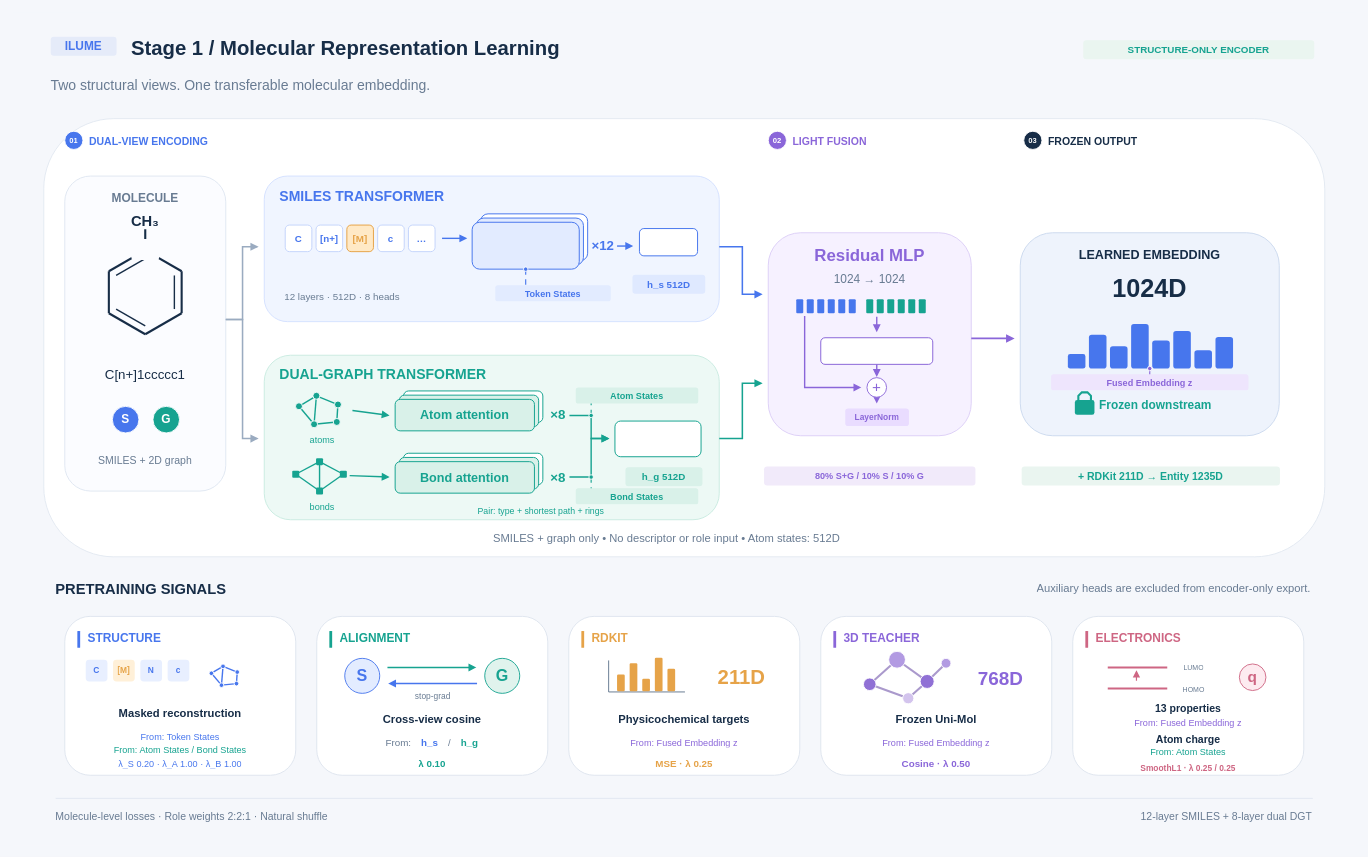
The diagram is 1368 pixels wide and 857 high, and some of its shapes have lost their labels. Each missing label, with the centre of its shape:
CLS: [668,242]
Linear · GELU · Linear: [876,350]
N⁺: [145,249]
Pool + proj.: [657,438]
Transformer: [525,245]
